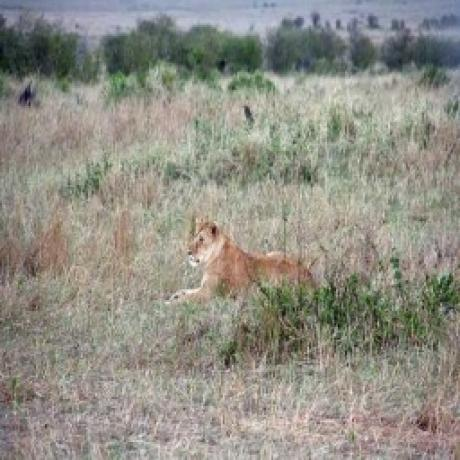Lion: (172, 219, 311, 301)
